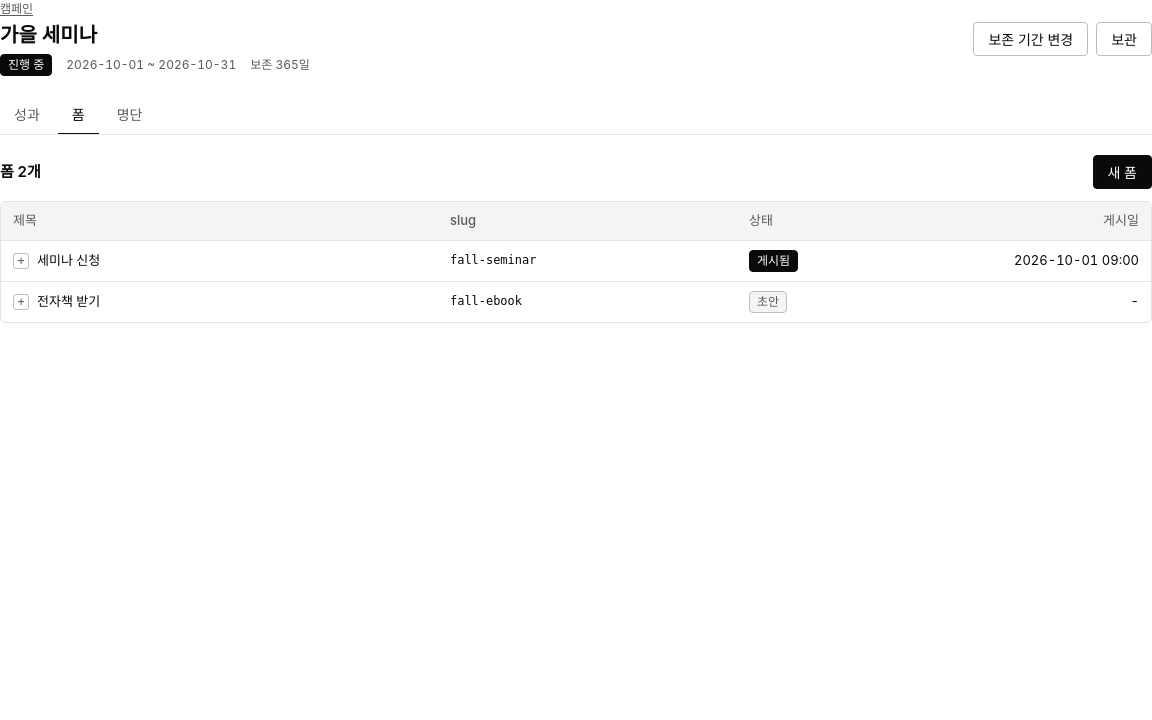
Test case: 폼 탭 › 폼 행을 펼치면 공개 URL과 기본 행의 채널 네 개 배포 링크를 한 표로 보여준다
What coordinates should you click on to do the following:
click the button "+ 세미나 신청"
I would click on:
 (57, 261)
Its box is 13,251 -> 100,270.
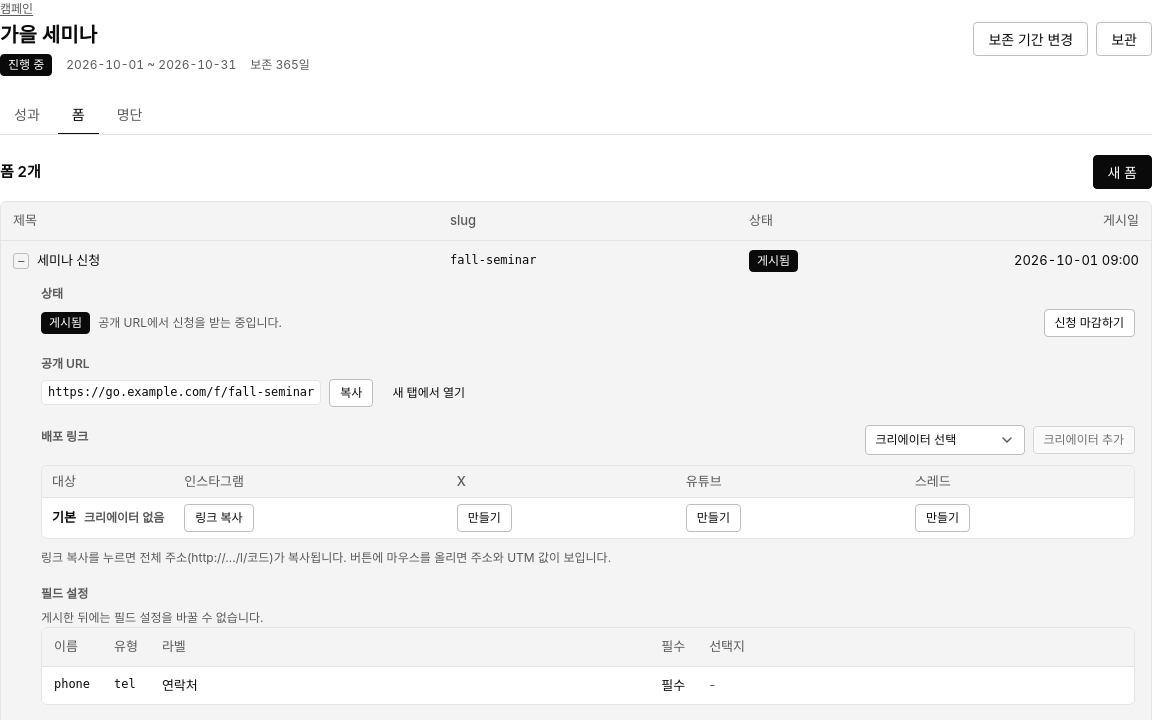
Expected: the button "− 세미나 신청" is expanded, 13,251 -> 100,270
Expected: the text "https://go.example.com/f/fall-seminar" is shown, 41,380 -> 321,405
Expected: the column headings read "대상", "인스타그램", "X", "유튜브", "스레드", in this order, 42,466 -> 174,498; 174,466 -> 447,498; 447,466 -> 676,498; 676,466 -> 905,498; 905,466 -> 1134,498
